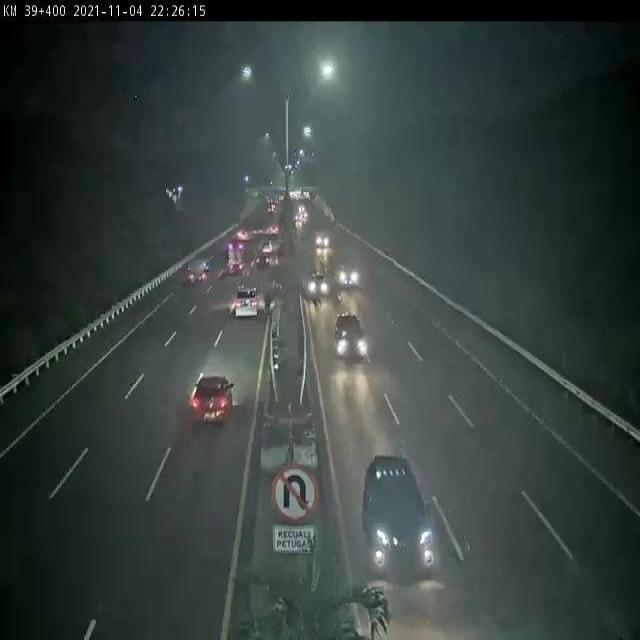big truck: (313, 228, 331, 261)
car: (363, 463, 437, 576), (188, 371, 235, 424), (332, 317, 374, 364), (333, 260, 370, 296), (185, 253, 210, 291), (239, 280, 262, 319), (302, 276, 327, 303)
